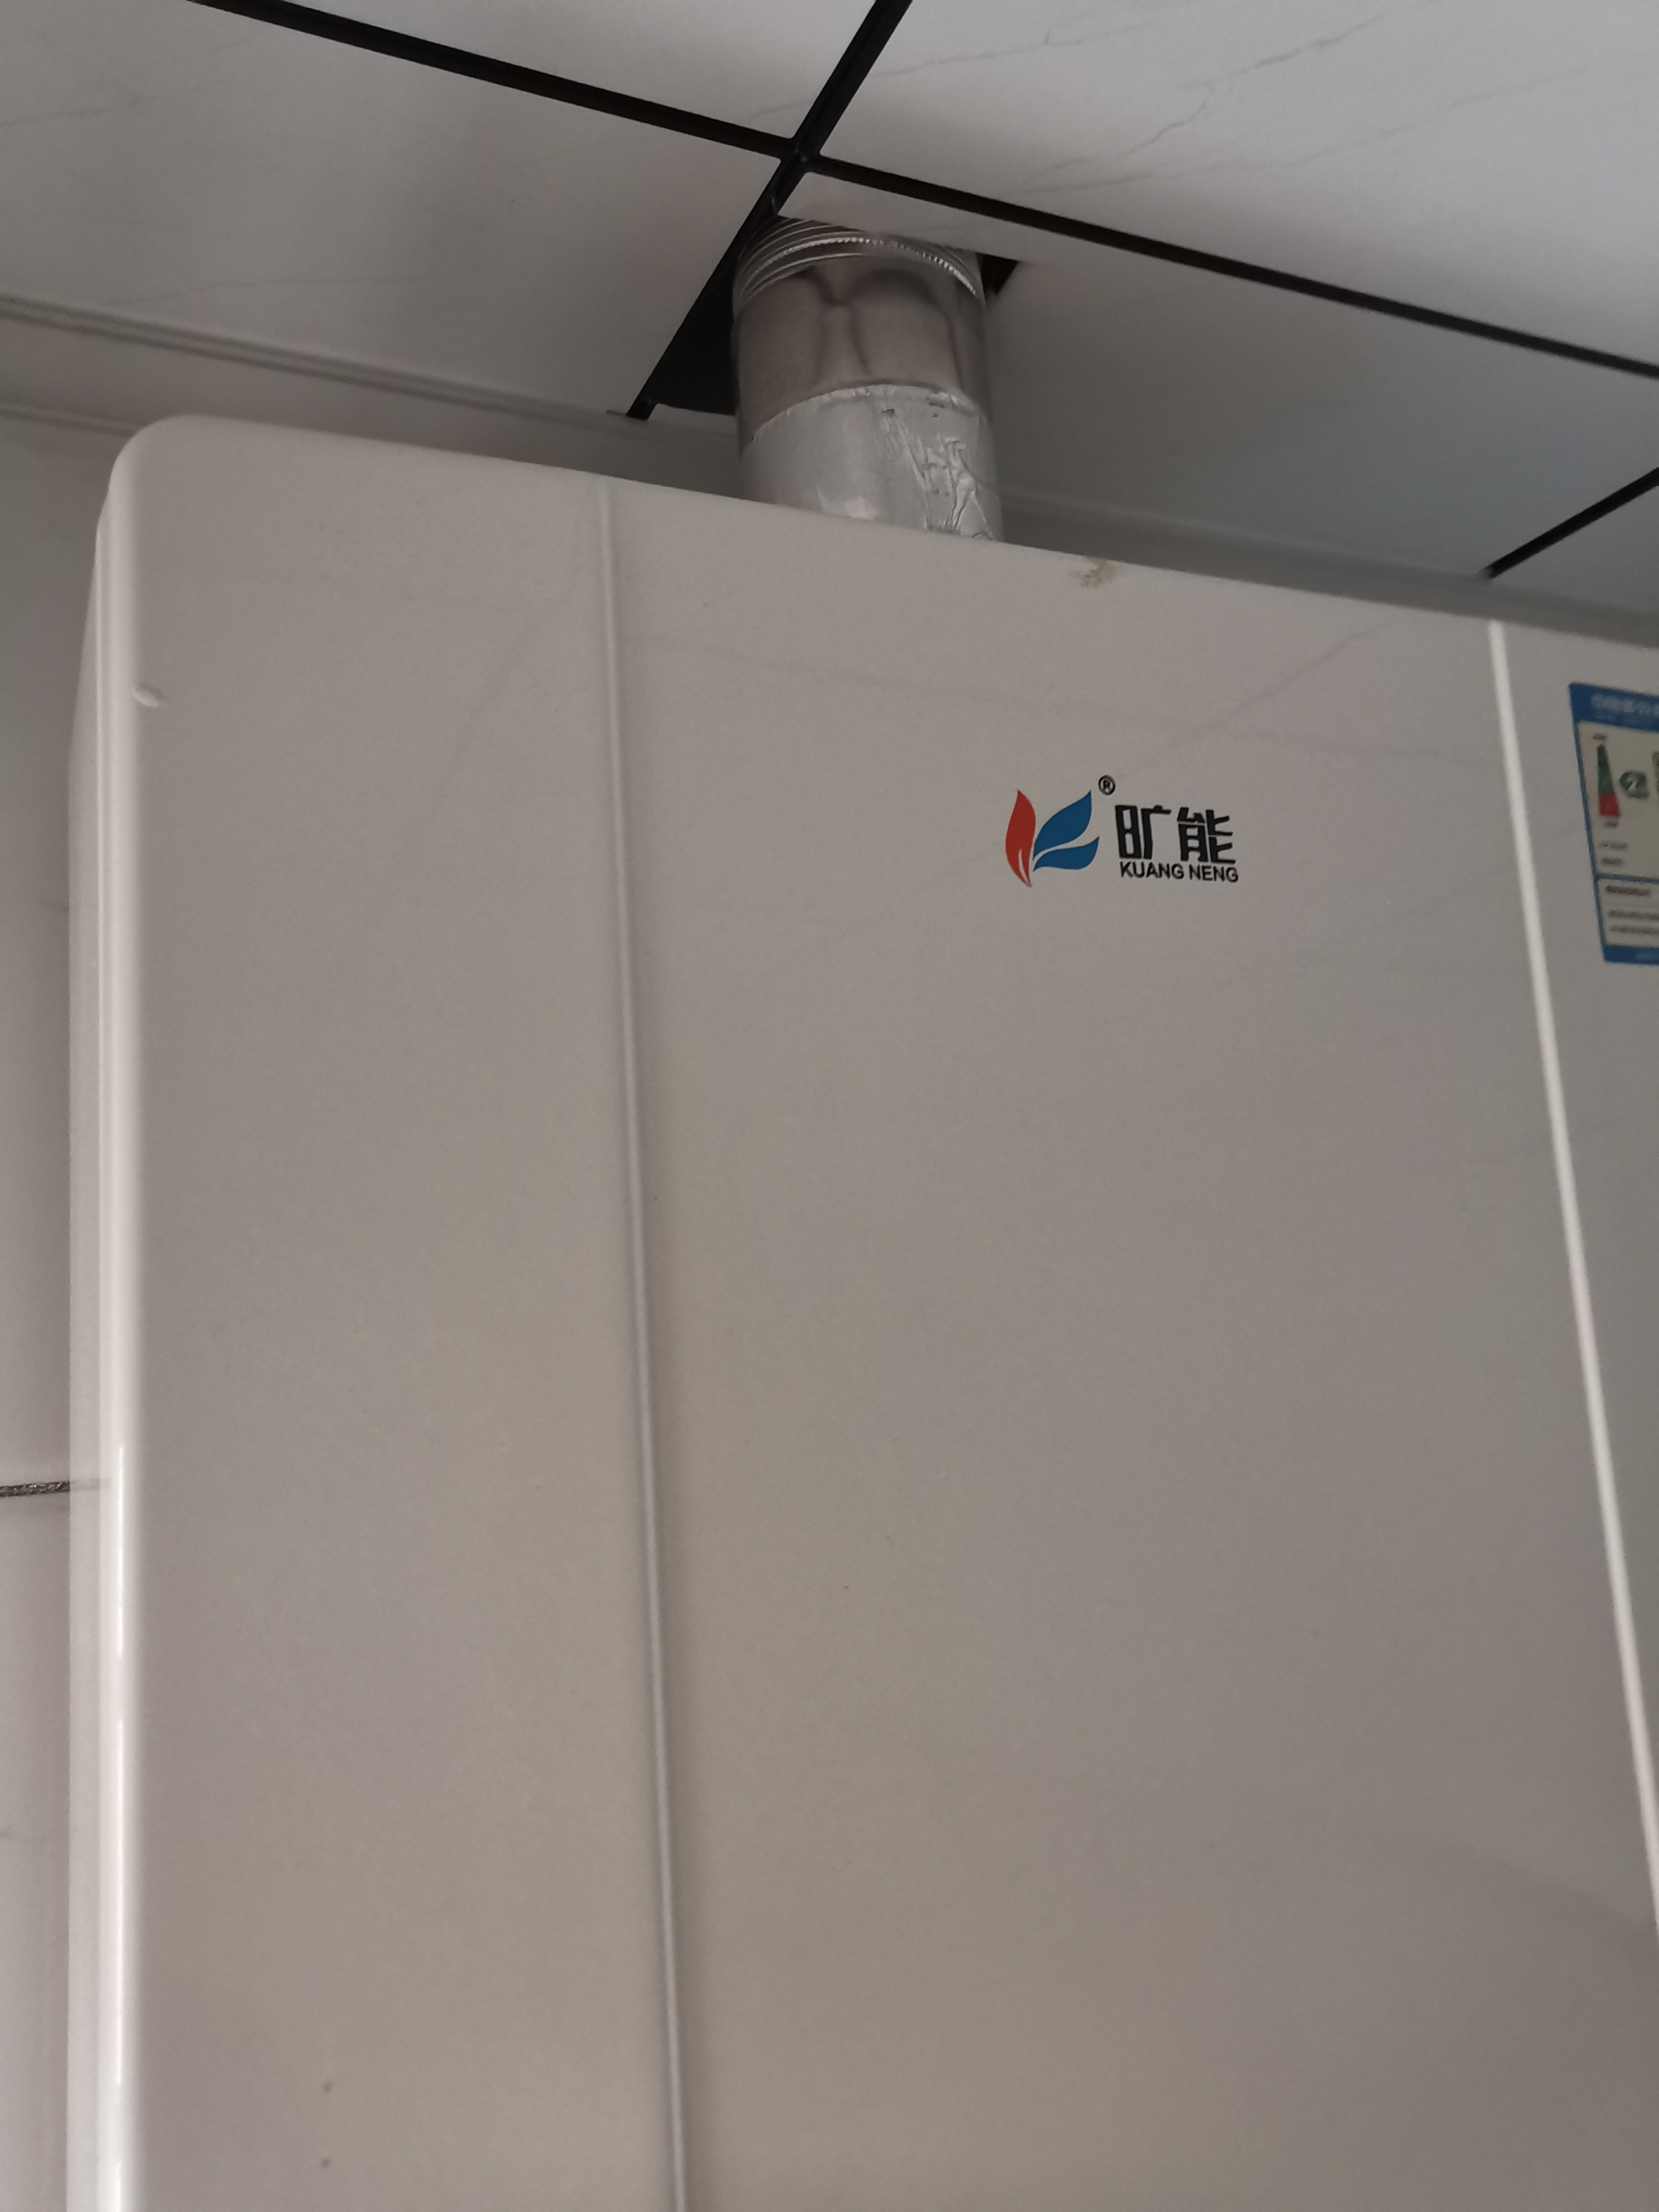loudou: (985, 745, 1269, 914)
